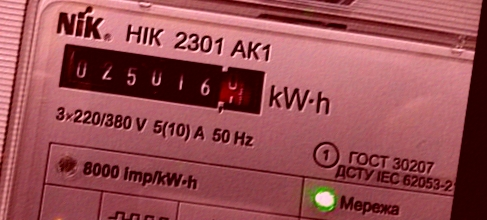0: (150, 63, 167, 88), (74, 56, 91, 80), (226, 69, 241, 91)
1: (175, 66, 189, 92), (226, 92, 236, 104)
2: (100, 57, 117, 81)
5: (125, 63, 139, 86)
6: (198, 72, 214, 99)
screen: (49, 31, 278, 124)
